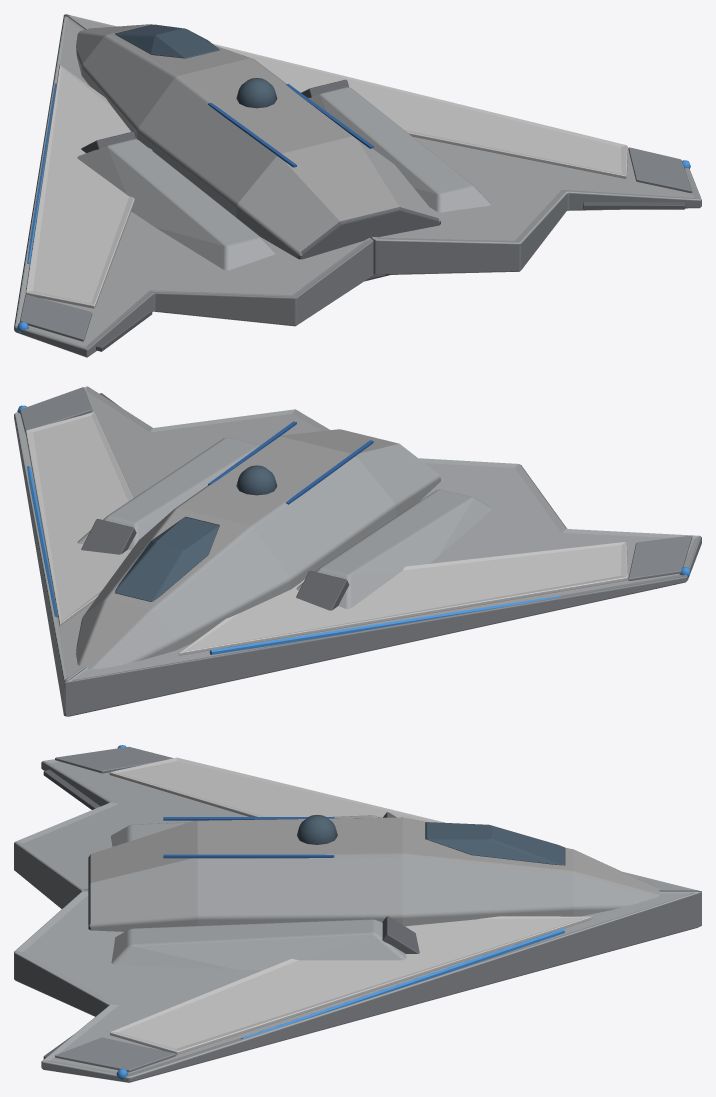
The model's file is lattice_bomber.glb.
3 renders of one model, top to bottom at view 1: azimuth 30°, elevation 25°; view 2: azimuth 150°, elevation 25°; view 3: azimuth 270°, elevation 25°, orthographic.
Parts seen in each view (by area): view 1: Body; view 2: Body; view 3: Body.
Part boxes in pixels (left/top/right/bottom): Body: left=14, top=14, right=701, bottom=357; Body: left=14, top=386, right=701, bottom=716; Body: left=14, top=745, right=701, bottom=1082.
Size of the model in its own units: 2.28 by 0.424 by 2.01.
